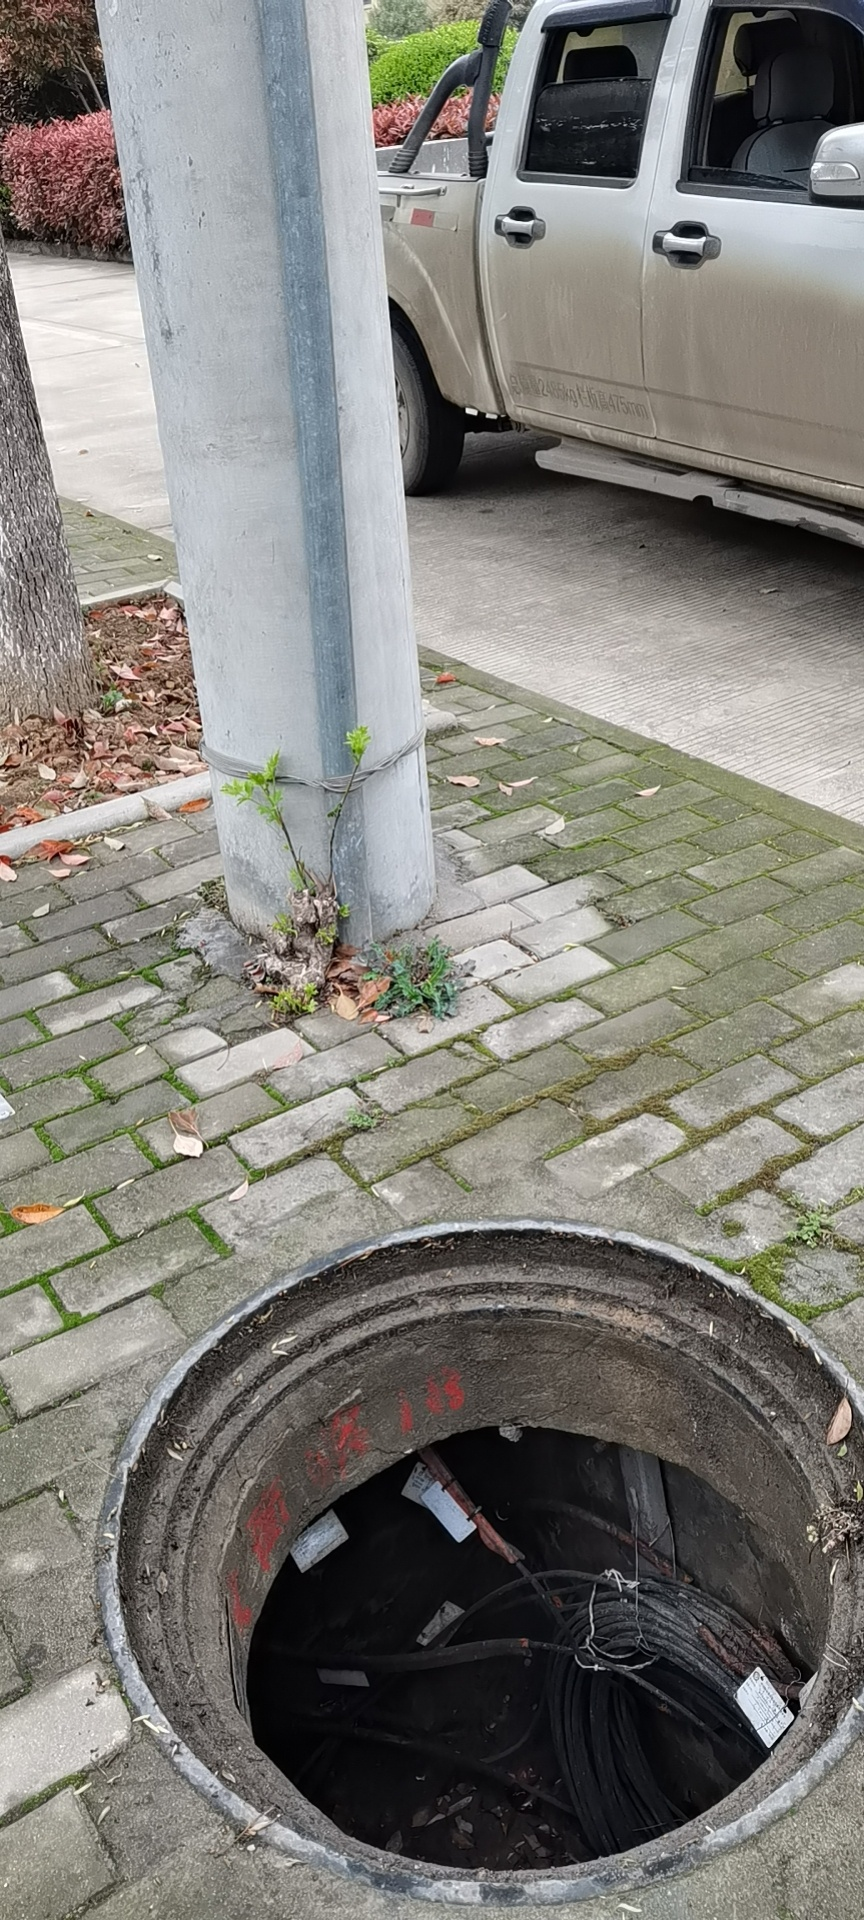well: (102, 1216, 858, 1898)
